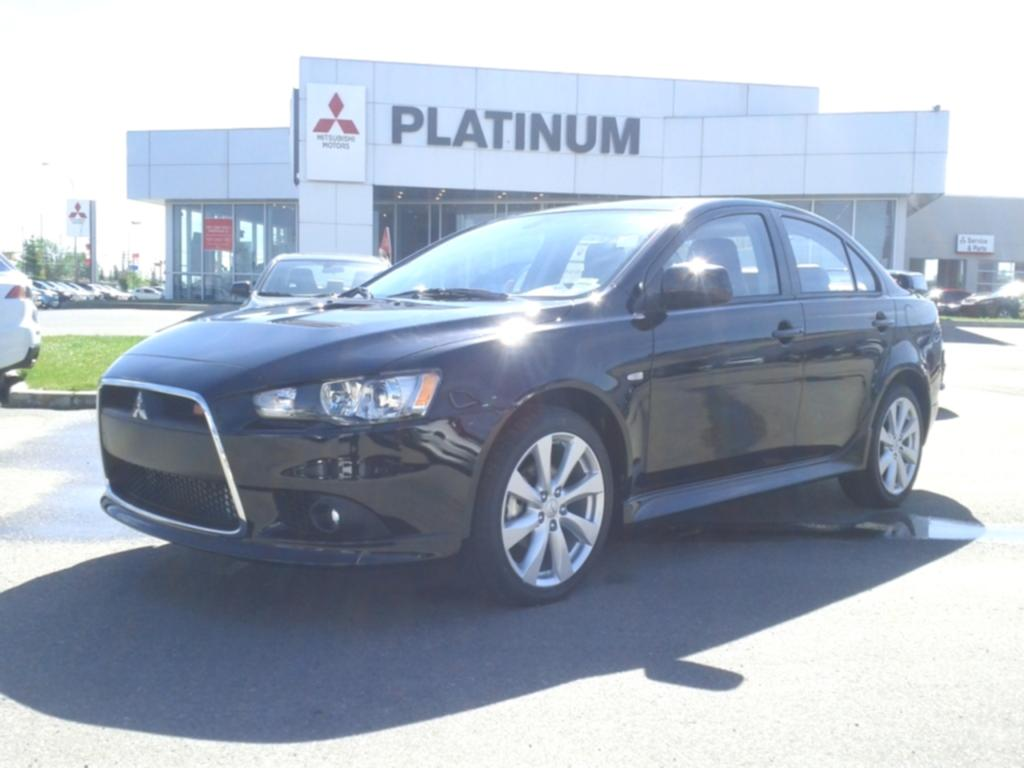Mitsubishi: (305, 89, 371, 137), (117, 378, 174, 427)
